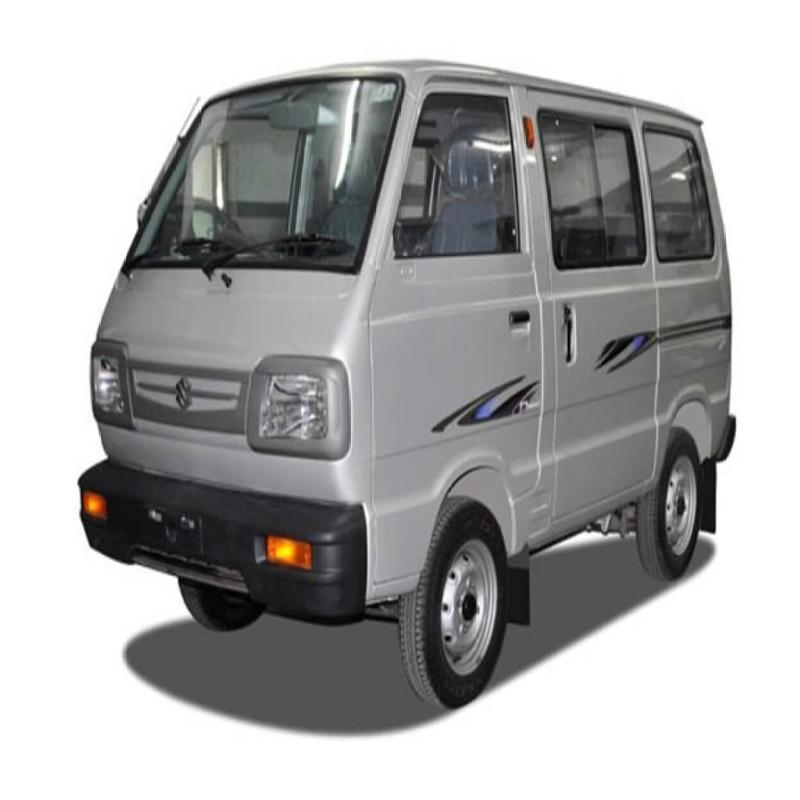car: (62, 34, 764, 718)
